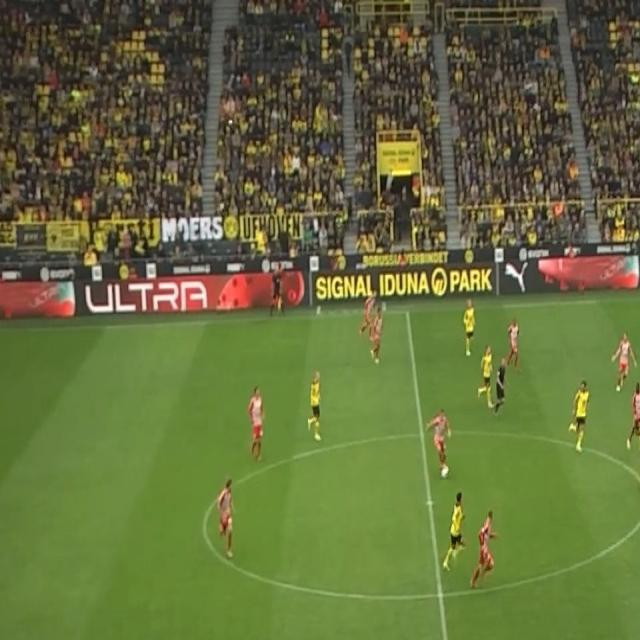ball: (440, 463, 450, 480)
